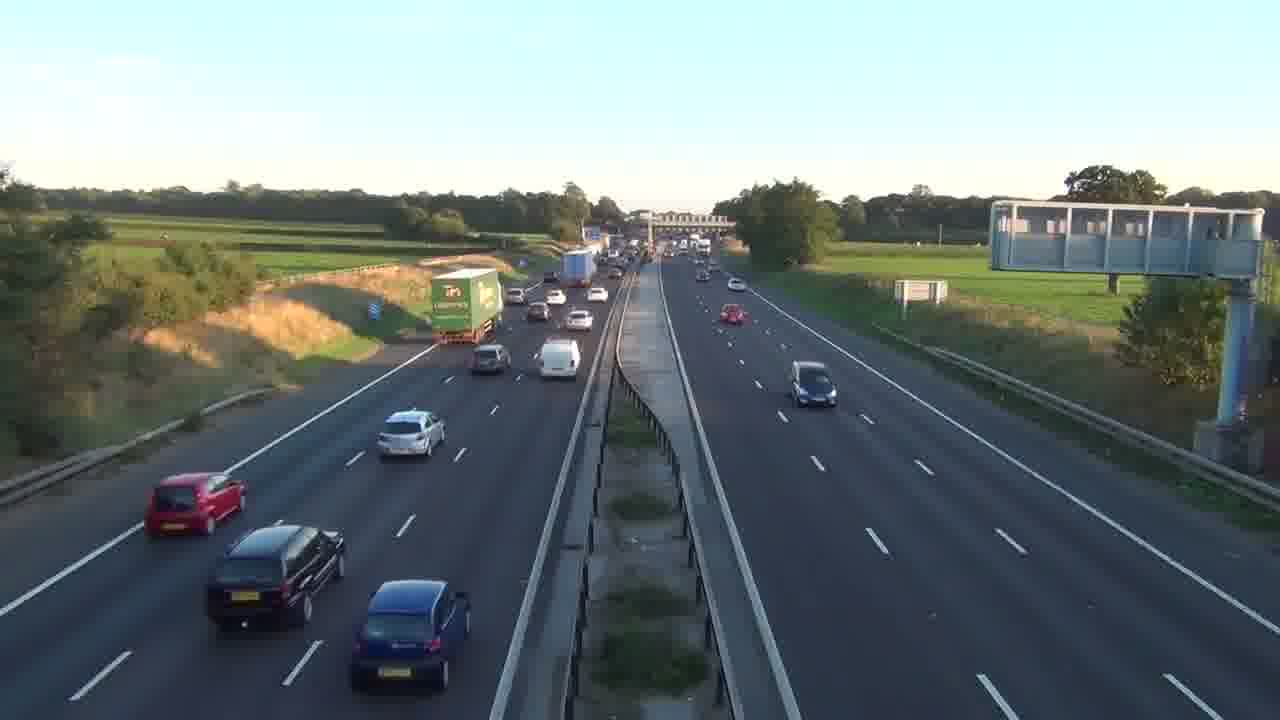car: (349, 578, 472, 692), (788, 359, 839, 408), (468, 343, 512, 375), (564, 308, 593, 331)
truck: (205, 521, 348, 632), (143, 472, 247, 539), (431, 267, 503, 344), (560, 247, 597, 288)
